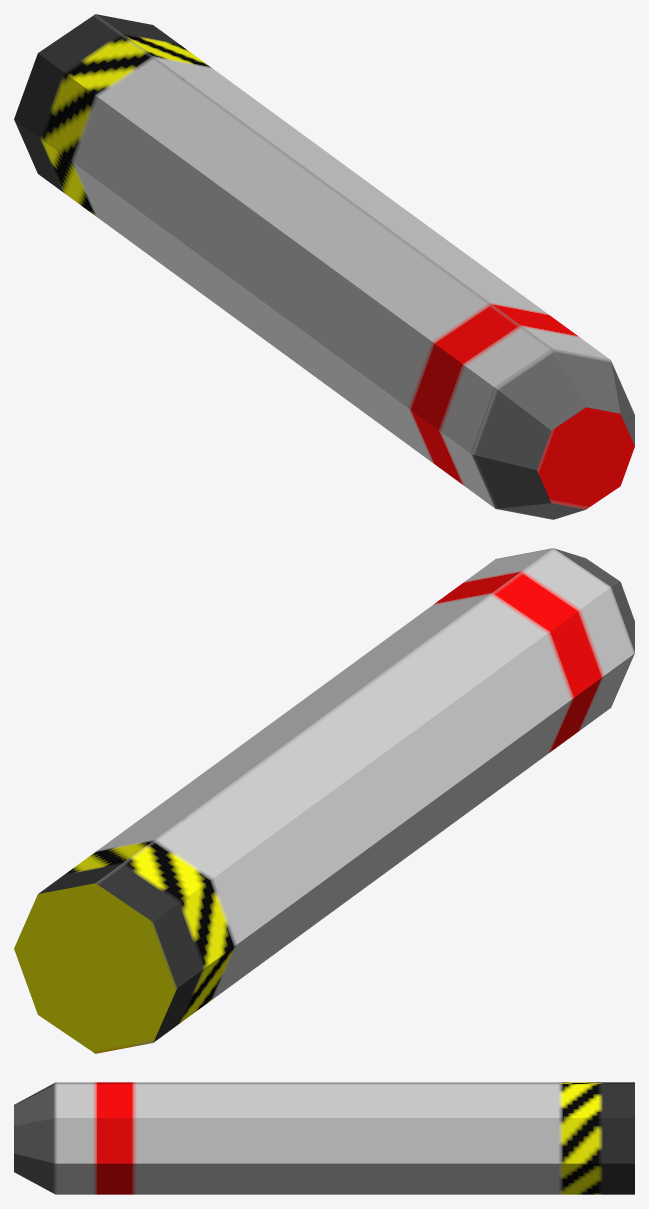
The model's file is missile_md.obj.
The picture shows the model from 3 angles, top to bottom: view 1: azimuth 30°, elevation 25°; view 2: azimuth 150°, elevation 25°; view 3: azimuth 270°, elevation 25°; orthographic projection. The views are drawn at different scales.
Parts seen in each view (by area): view 1: missile_md_Cube.009; view 2: missile_md_Cube.009; view 3: missile_md_Cube.009.
Part boxes in pixels (x1,y1,x2,y2): missile_md_Cube.009: [14, 14, 634, 519]; missile_md_Cube.009: [14, 548, 634, 1053]; missile_md_Cube.009: [14, 1082, 634, 1194].
Size of the model in its own units: 0.0864 by 0.0864 by 0.45.
1 material, 1 textured.
